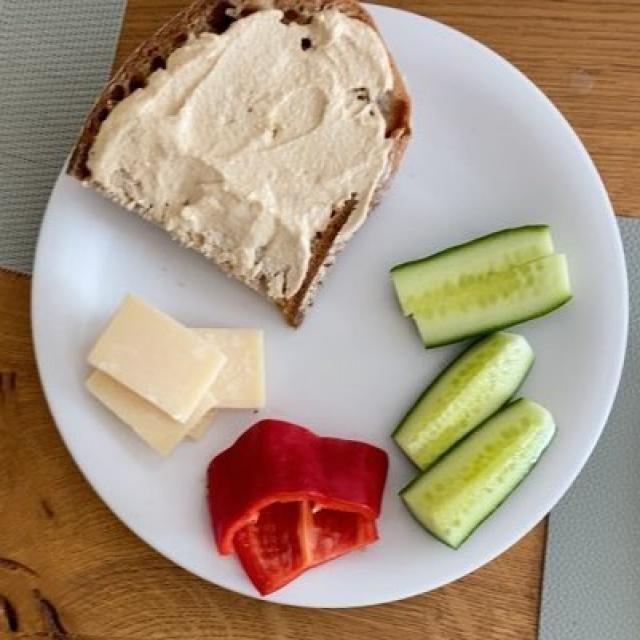bell-pepper: (203, 418, 377, 593)
cheese: (85, 298, 258, 454)
cucumber: (388, 229, 579, 562)
hummus: (97, 23, 392, 272)
